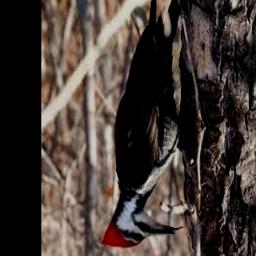Woodpecker: (102, 0, 185, 248)
